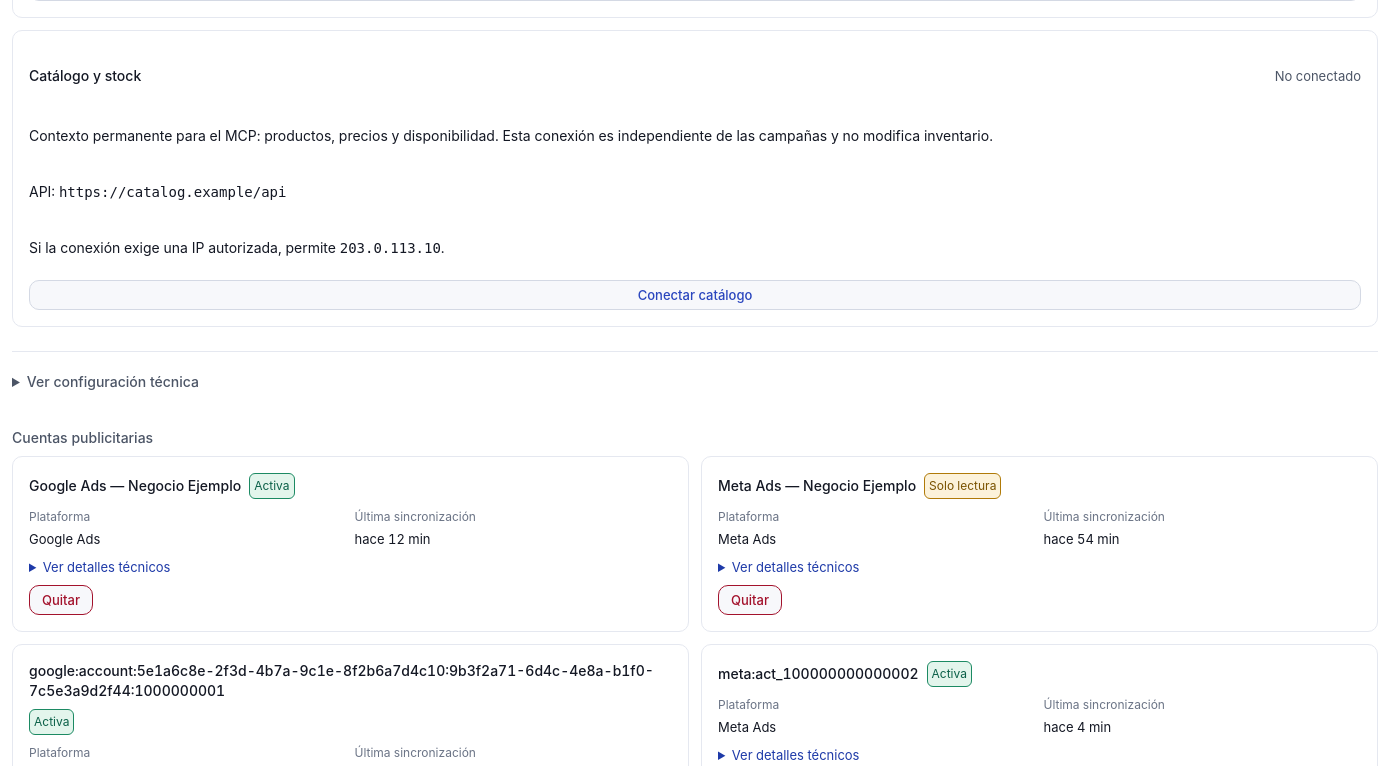
Test: ConexionesPage › conserva el error de progreso y su reintento dentro de Administración
(page scrolled)
expect the text "No se ha podido comprobar el progreso de la configuración." is not shown: met
Click the heading "Ver configuración técnica": x=113, y=382 [27, 373, 199, 390]
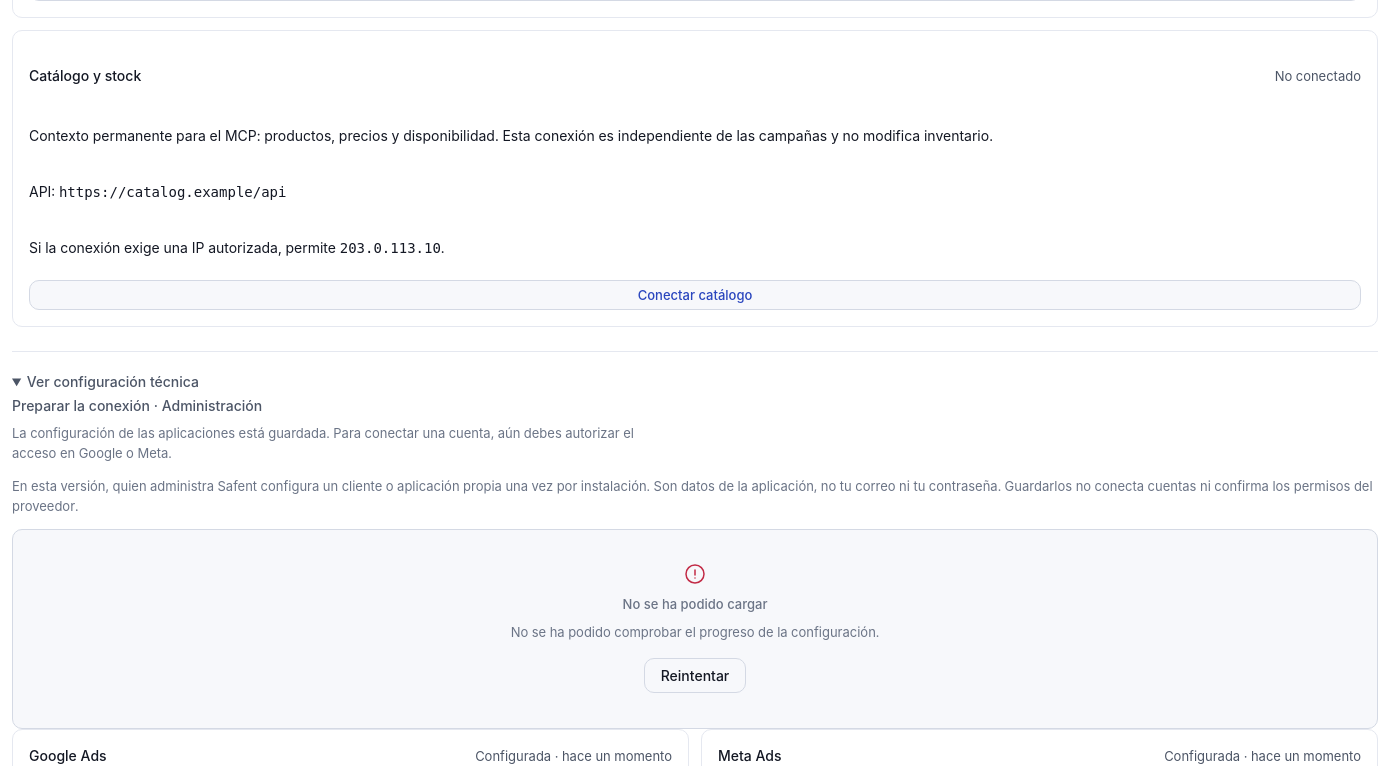
expect the text "No se ha podido comprobar el progreso de la configuración." is shown: met, box [511, 622, 879, 642]
expect the button "Reintentar" is enabled: met, box [644, 658, 746, 693]
